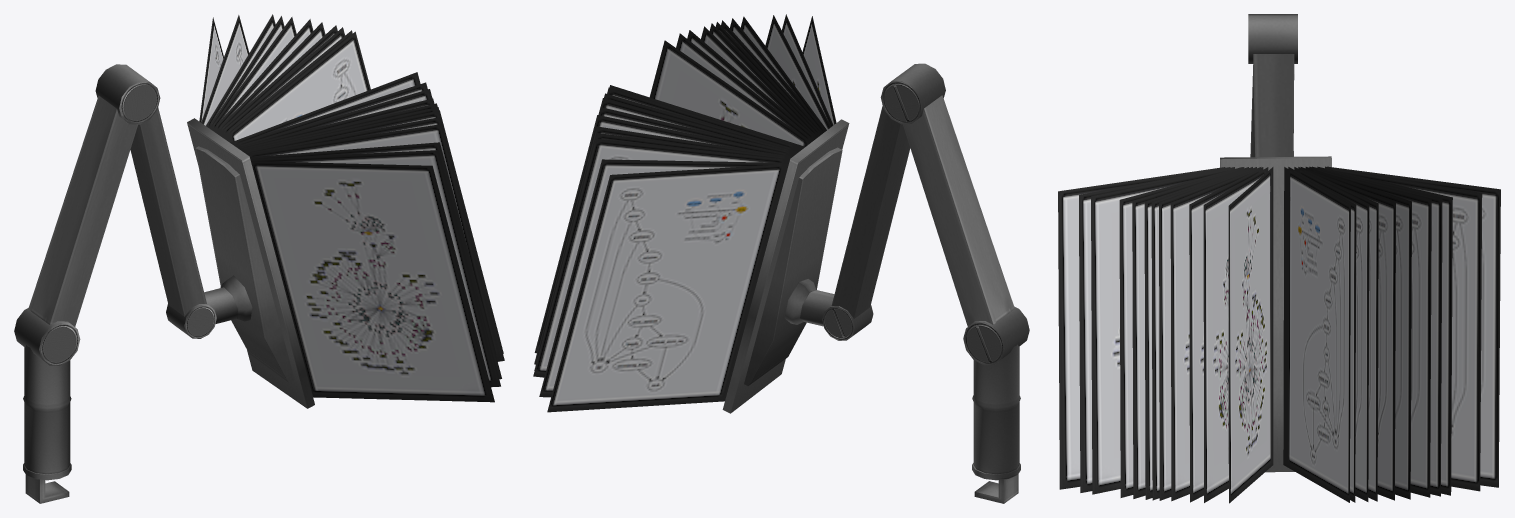
The model's file is book_holder-1.FBX.
3 views of the same model, side by side, from view 1: azimuth 30°, elevation 25°; view 2: azimuth 150°, elevation 25°; view 3: azimuth 270°, elevation 25° (orthographic). The views are drawn at different scales.
Parts seen in each view (by area): view 1: book_holder_LOD0; view 2: book_holder_LOD0; view 3: book_holder_LOD0.
Part boxes in pixels (x1,y1,x2,y2): book_holder_LOD0: [14, 14, 504, 503]; book_holder_LOD0: [533, 14, 1029, 503]; book_holder_LOD0: [1058, 14, 1500, 503].
Size of what is drawn, in the model's own units: 20.22 by 17.88 by 16.98.
